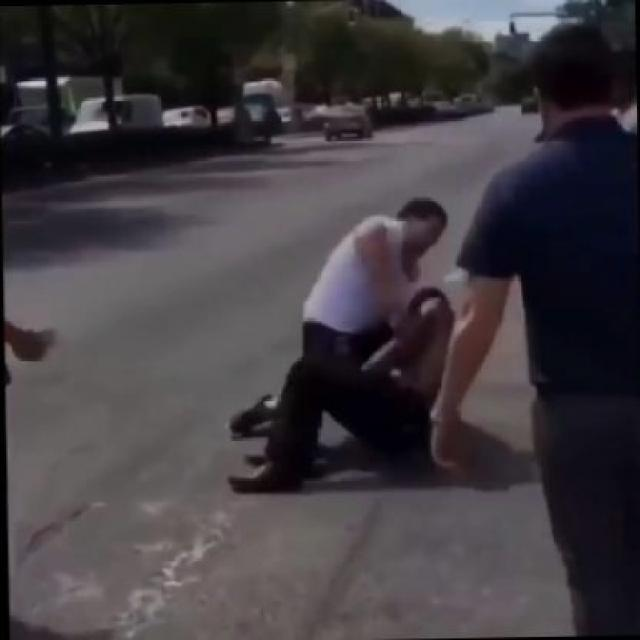fight: (217, 177, 456, 509)
non-fight: (412, 2, 638, 629)
